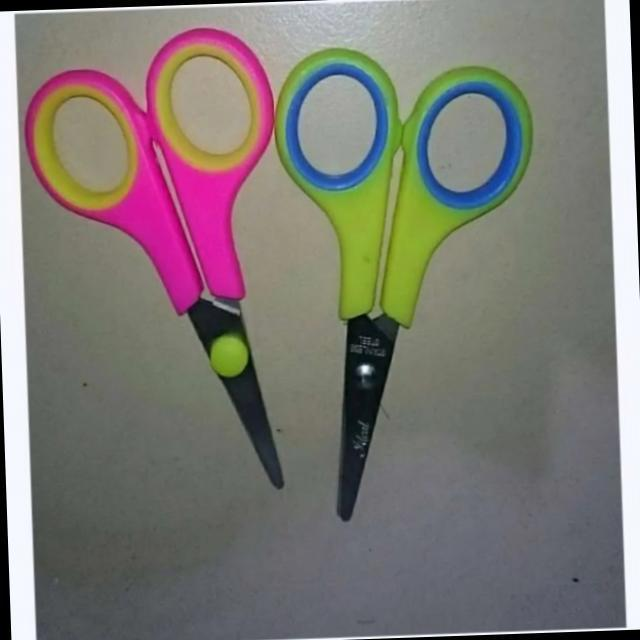scissors: (270, 35, 552, 634), (15, 28, 294, 525)
